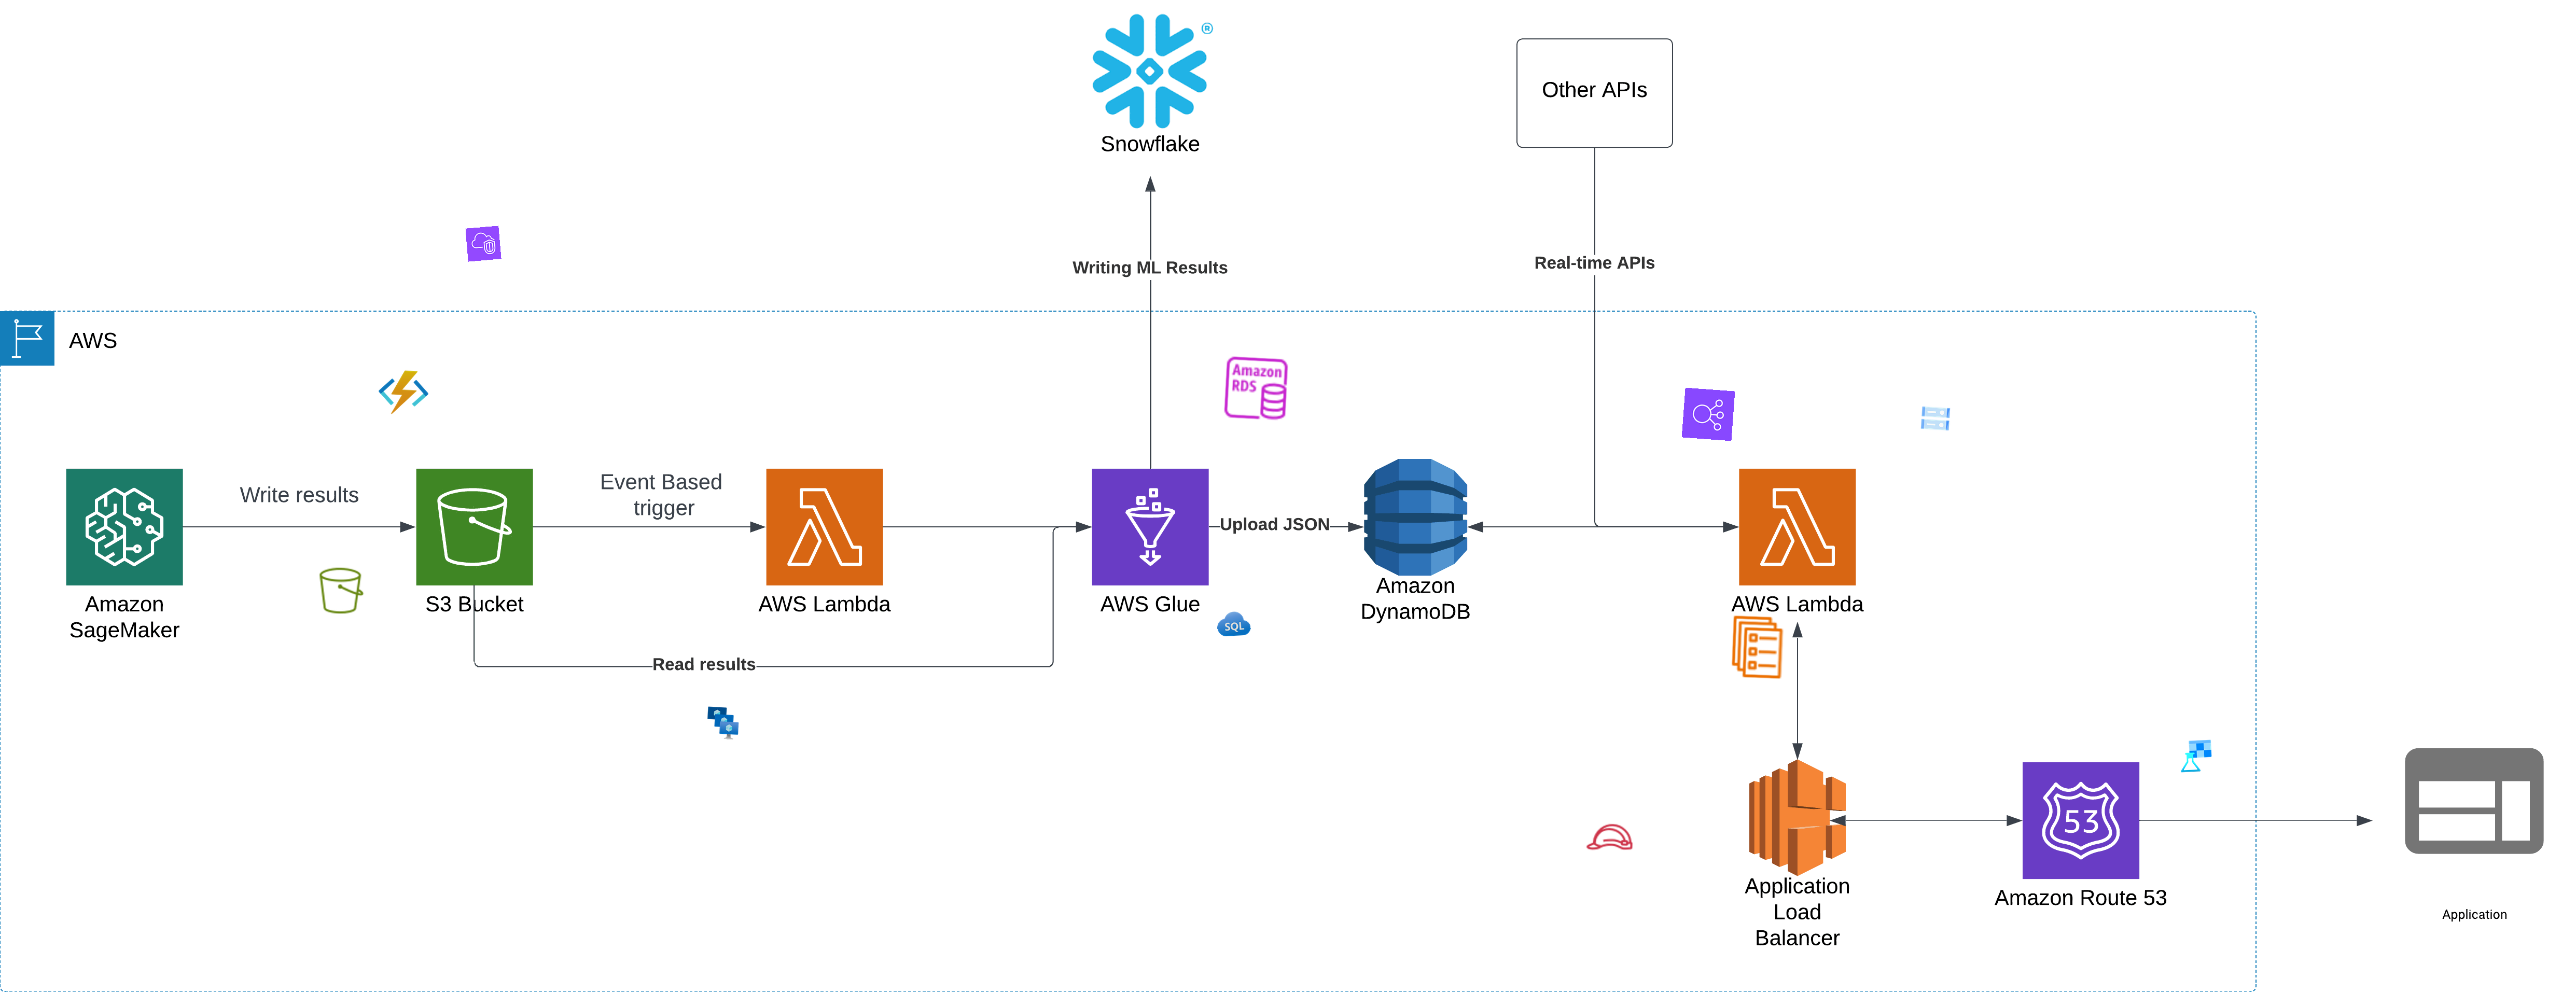aws_amazon_virtual_private_cloud: (465, 225, 501, 261)
aws_aurora_amazon_rds_instance: (1221, 353, 1291, 424)
aws_elastic_container_service_service: (1723, 613, 1792, 682)
aws_elastic_load_balancing: (1681, 388, 1735, 442)
aws_identity_access_management_role: (1584, 811, 1636, 864)
aws_simple_storage_service_bucket: (315, 565, 366, 616)
azure_function_apps: (378, 366, 430, 419)
azure_machine_learning_studio_workspaces: (2178, 739, 2213, 774)
azure_sql: (1216, 606, 1252, 642)
azure_vm_scale_sets: (705, 705, 739, 741)
gcp_cloud_storage: (1917, 401, 1953, 437)
